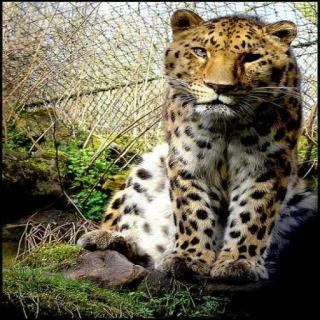Leopard: (82, 0, 320, 302)
